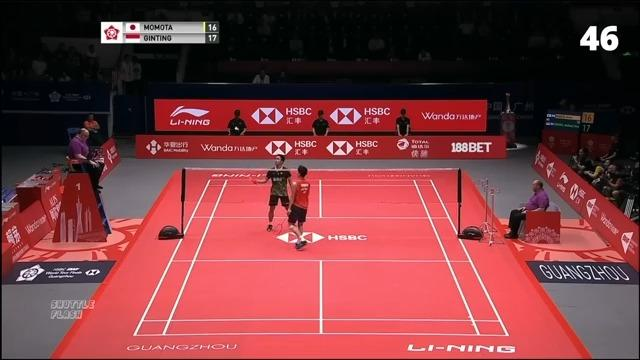Shuttlecock: (233, 126, 240, 132)
